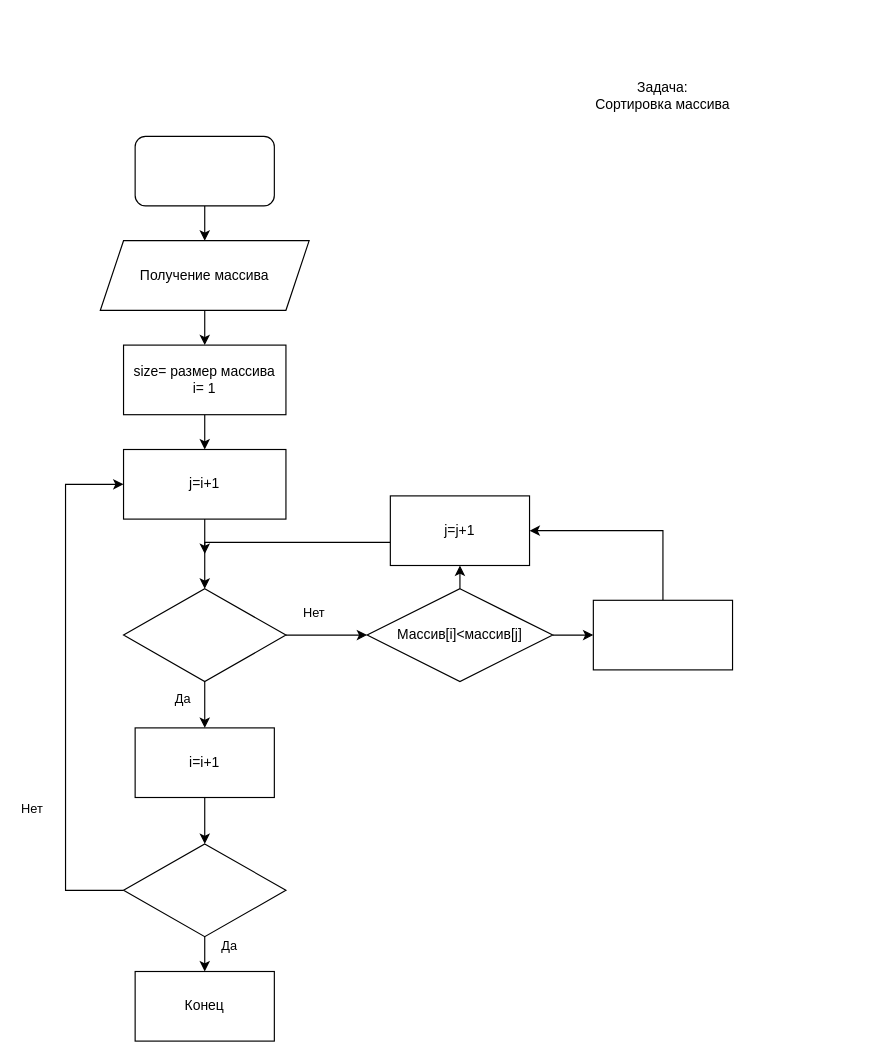
The diagram is 873 pixels wide and 1061 high, and some of its shapes have lost their labels. Here are the shapes that lost their labels. From the top down, the box of each, then its label:
(134, 135, 274, 206): Начало
(122, 588, 286, 682): j>size
(592, 599, 733, 670): Меняем их местами
(122, 843, 286, 937): i>size
